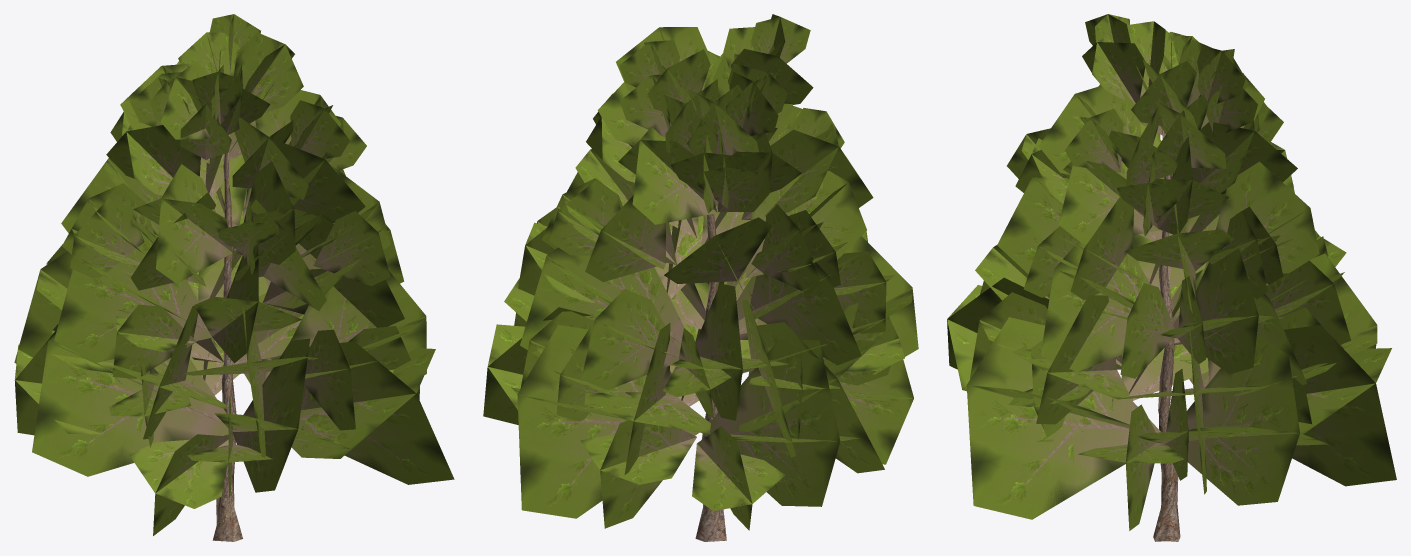
Rendered from oak2_LOD3.obj.
The picture shows the model from 3 angles, left to right: view 1: azimuth 30°, elevation 25°; view 2: azimuth 150°, elevation 25°; view 3: azimuth 270°, elevation 25°; orthographic projection. The views are drawn at different scales.
Parts seen in each view (by area): view 1: maple branch imposter, bark02; view 2: maple branch imposter, bark02; view 3: maple branch imposter, bark02.
Part boxes in pixels (box(x1,y1,x2,y2)): maple branch imposter: box(14, 14, 454, 535); bark02: box(212, 134, 242, 541); maple branch imposter: box(483, 14, 918, 530); bark02: box(695, 214, 726, 541); maple branch imposter: box(947, 14, 1396, 530); bark02: box(1153, 129, 1180, 541).
Size of the model in its own units: 667 by 869 by 703.
Materials: 2 (2 with a texture image).
